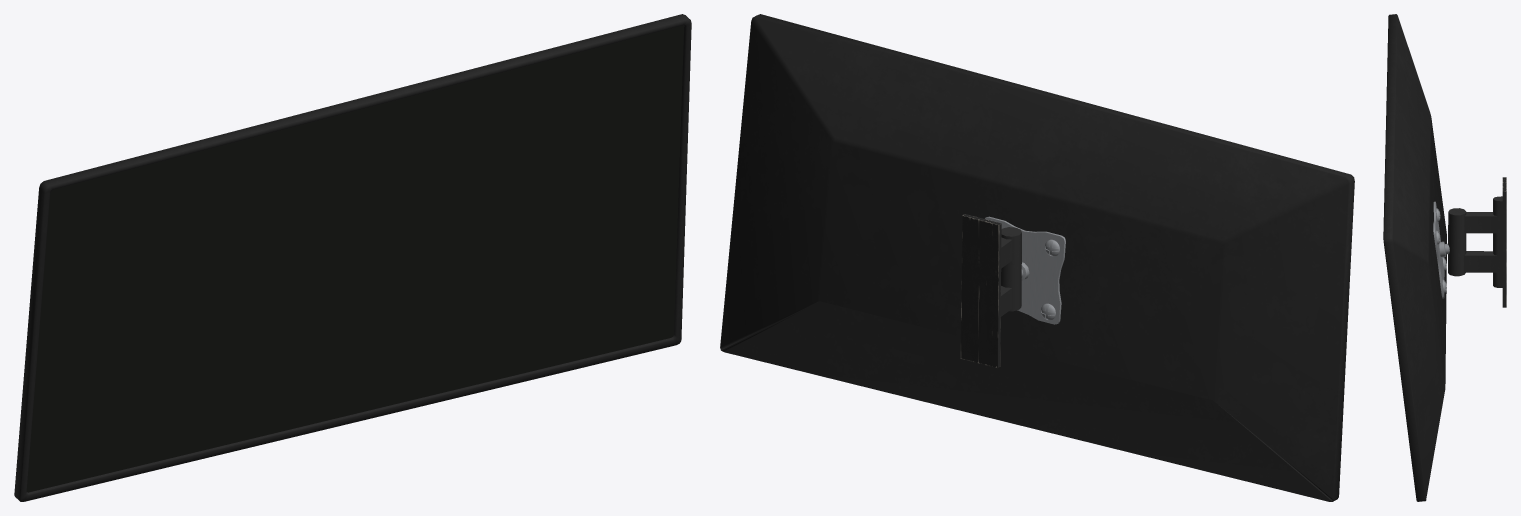
The picture shows the model from 3 angles, left to right: view 1: azimuth 30°, elevation 25°; view 2: azimuth 150°, elevation 25°; view 3: azimuth 270°, elevation 25°; orthographic projection. The views are drawn at different scales.
Parts seen in each view (by area): view 1: screen, monitor; view 2: monitor; view 3: monitor.
Boxes of the visible parts, x1=… form: screen: x1=26, y1=25, x2=683, y2=492; monitor: x1=14, y1=14, x2=691, y2=501; monitor: x1=720, y1=14, x2=1354, y2=501; monitor: x1=1383, y1=14, x2=1506, y2=501.
Bounding box in the file's own units: 0.6718 × 0.3373 × 0.1445.
1 material, 1 textured.
